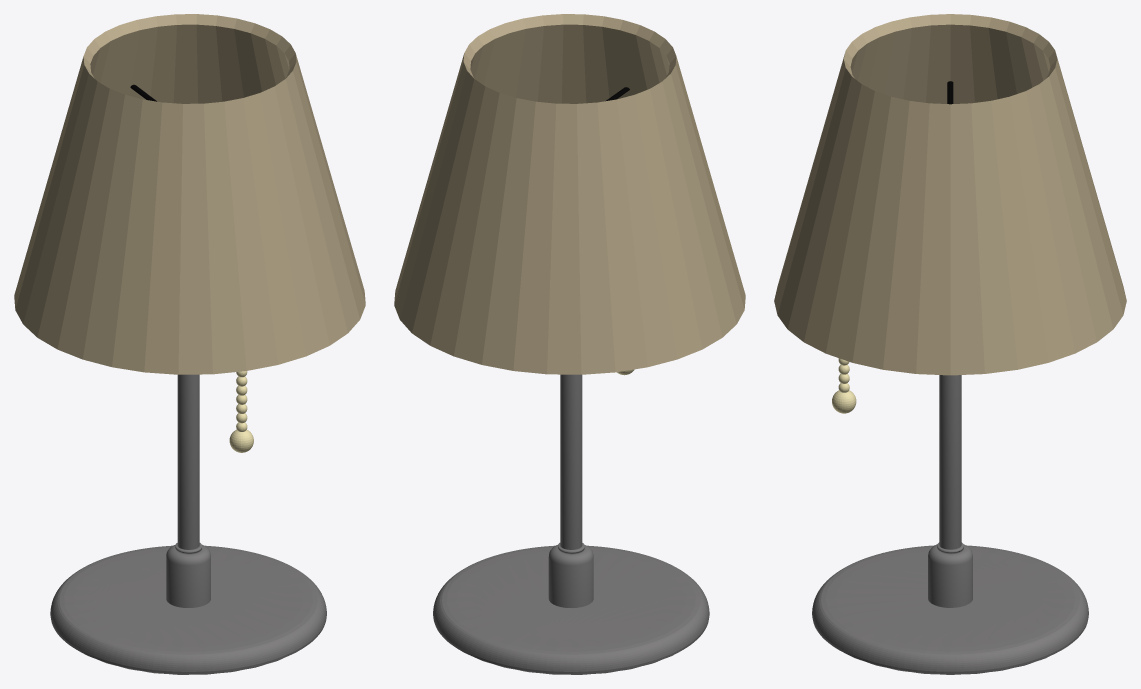
Rendered from SMALLLAPM.fbx.
3 renders of one model, left to right at view 1: azimuth 30°, elevation 25°; view 2: azimuth 150°, elevation 25°; view 3: azimuth 270°, elevation 25°, orthographic.
Parts seen in each view (by area): view 1: Circle.004, Circle, Cylinder, Circle.005; view 2: Circle.004, Circle, Cylinder, Circle.005; view 3: Circle.004, Circle, Cylinder, Circle.005.
Boxes of the visible parts, x1,y1,x2,y2 form: Circle.004: (14,14,365,374); Circle: (50,545,326,674); Cylinder: (177,374,199,549); Circle.005: (166,544,210,607); Circle.004: (394,14,745,374); Circle: (433,545,709,674); Cylinder: (560,374,582,549); Circle.005: (548,544,593,608); Circle.004: (774,14,1126,375); Circle: (812,545,1088,674); Cylinder: (939,375,961,549); Circle.005: (928,544,972,607).
Size of the model in its own units: 266 by 467 by 266.
